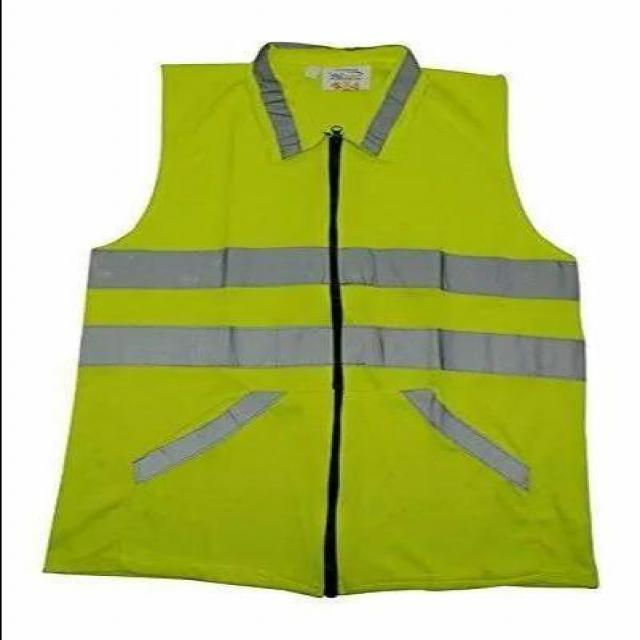Reflective-Jacket: (30, 18, 630, 625)
